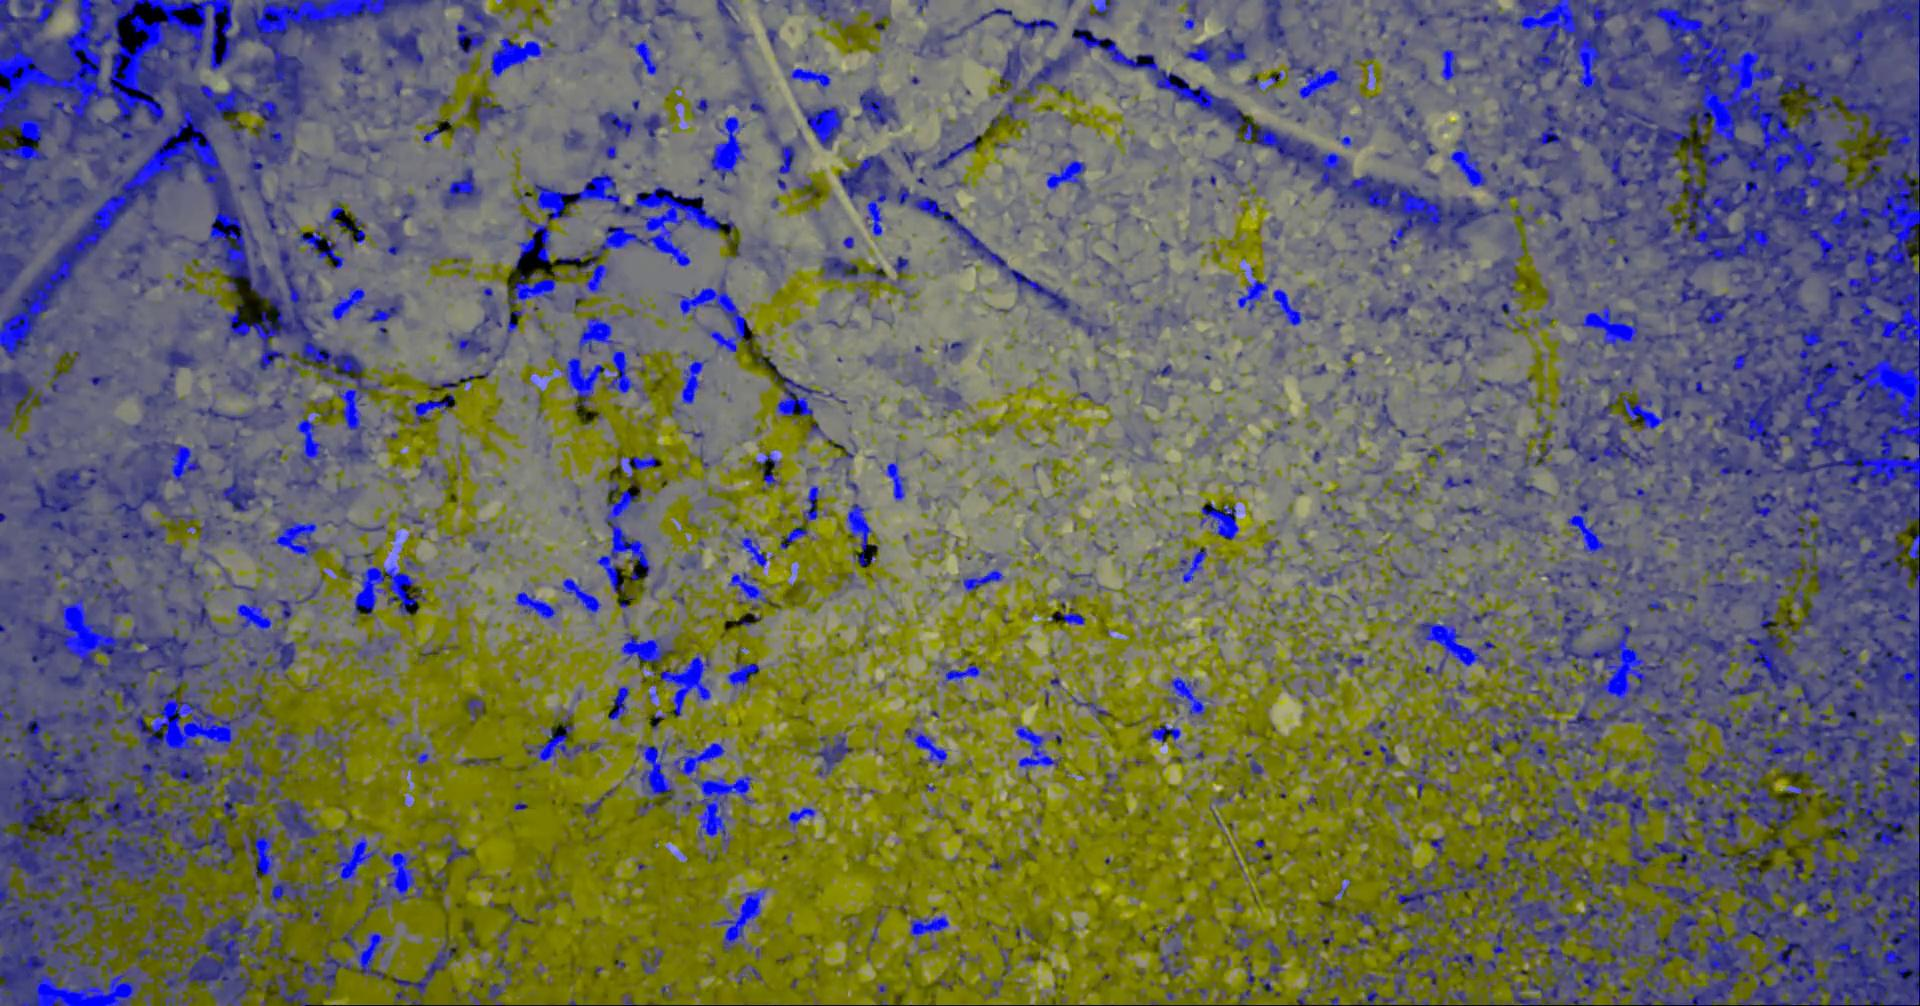ant: (392, 935, 457, 1005), (1286, 929, 1349, 989), (1445, 365, 1535, 406), (373, 84, 453, 130), (452, 95, 510, 158), (1443, 506, 1549, 533), (524, 710, 583, 761), (1387, 30, 1436, 86), (1015, 724, 1062, 779), (1243, 937, 1283, 997), (1402, 752, 1454, 796), (1164, 676, 1211, 723), (1263, 288, 1321, 325), (333, 121, 389, 158), (312, 724, 347, 784), (853, 85, 898, 131), (728, 572, 775, 614), (930, 133, 982, 170), (620, 633, 676, 667), (808, 734, 853, 776), (1158, 921, 1191, 978), (439, 166, 483, 210), (1236, 265, 1275, 312), (555, 578, 601, 617), (820, 255, 888, 282), (1045, 159, 1087, 199), (904, 727, 946, 767), (484, 955, 518, 1005), (846, 502, 872, 565), (1341, 345, 1382, 382), (627, 36, 658, 84), (983, 948, 1011, 998), (411, 392, 456, 424), (1168, 545, 1206, 582), (1199, 503, 1238, 539), (737, 528, 772, 567), (1210, 151, 1244, 191), (681, 356, 709, 404), (805, 0, 851, 29), (514, 591, 560, 619), (1476, 788, 1509, 826), (952, 568, 1004, 592), (1435, 696, 1479, 724), (850, 0, 890, 30), (320, 481, 361, 512), (1317, 648, 1363, 674), (1370, 387, 1396, 434), (787, 67, 830, 94), (1050, 591, 1084, 624), (1307, 18, 1337, 55), (436, 833, 474, 862), (422, 373, 475, 392), (232, 520, 264, 551), (582, 788, 615, 818), (889, 142, 923, 171), (885, 455, 905, 500), (908, 915, 949, 937), (1413, 447, 1441, 480), (1070, 695, 1109, 719), (938, 662, 980, 683), (756, 452, 780, 489), (825, 437, 857, 465), (627, 451, 655, 483), (726, 662, 759, 688), (353, 638, 390, 661), (1528, 688, 1564, 711), (866, 909, 883, 960), (904, 366, 935, 392), (1293, 0, 1332, 20), (1145, 723, 1180, 746), (607, 685, 629, 720), (1138, 305, 1162, 337), (930, 387, 961, 412), (1486, 700, 1519, 723), (778, 523, 808, 549), (1178, 0, 1203, 30), (1223, 925, 1253, 949), (783, 807, 815, 829), (1382, 478, 1417, 498), (803, 484, 820, 522), (505, 904, 538, 925), (1336, 936, 1369, 956), (1528, 415, 1557, 438), (1390, 559, 1421, 579), (640, 946, 663, 973), (1441, 473, 1478, 489), (1297, 973, 1316, 1005), (422, 644, 457, 661), (1371, 6, 1390, 37), (1439, 988, 1473, 1005), (173, 267, 196, 291), (1364, 719, 1390, 739), (1378, 744, 1397, 772), (1244, 752, 1263, 780), (649, 564, 665, 596), (1345, 909, 1377, 926), (1437, 749, 1459, 774), (735, 964, 761, 984), (891, 255, 908, 286), (563, 128, 585, 150), (1244, 71, 1269, 91), (752, 254, 773, 276), (512, 103, 528, 131), (1599, 748, 1617, 774), (691, 97, 712, 117), (942, 340, 965, 359), (1319, 567, 1342, 586), (1429, 833, 1448, 855), (844, 465, 858, 494), (422, 126, 444, 144), (430, 868, 447, 892), (497, 923, 510, 951), (935, 977, 963, 991), (466, 699, 483, 721), (1065, 572, 1092, 586), (1474, 527, 1498, 542), (805, 420, 825, 438), (418, 459, 436, 479), (198, 547, 218, 565), (1101, 771, 1117, 793), (1363, 460, 1388, 474), (1147, 363, 1173, 376), (735, 614, 762, 626), (1382, 793, 1401, 810), (678, 554, 698, 570), (411, 743, 428, 763), (296, 150, 311, 171), (1457, 678, 1478, 694), (342, 550, 354, 575), (1263, 539, 1277, 561), (766, 25, 777, 52), (1015, 927, 1041, 939), (399, 512, 424, 523), (1318, 929, 1333, 948), (1183, 987, 1209, 998), (1137, 22, 1153, 38), (465, 987, 480, 1005), (537, 862, 551, 882), (460, 757, 489, 766), (618, 602, 629, 627), (985, 856, 1003, 870), (535, 899, 556, 911), (1473, 574, 1483, 598), (681, 429, 703, 439), (227, 890, 245, 903), (747, 240, 768, 250), (513, 189, 527, 205), (1503, 575, 1517, 591), (874, 983, 888, 998), (1790, 827, 1807, 840), (471, 540, 489, 551), (1363, 392, 1377, 406), (670, 591, 684, 605), (913, 0, 928, 13), (881, 354, 897, 367), (1238, 989, 1251, 1005), (1363, 47, 1374, 64), (423, 226, 439, 238), (1545, 290, 1554, 310), (1422, 169, 1437, 180), (1538, 312, 1553, 324), (621, 993, 636, 1005), (467, 929, 476, 948), (842, 236, 855, 248), (1312, 363, 1326, 373), (1484, 403, 1498, 413), (660, 984, 670, 998)
